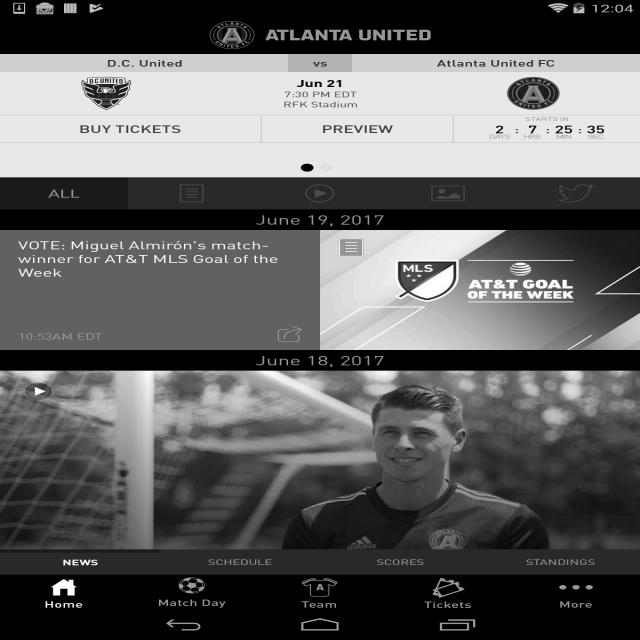Button: (17, 204, 623, 231), (595, 130, 640, 159), (574, 139, 587, 149)
EditText: (182, 611, 596, 639), (182, 527, 596, 554), (182, 555, 596, 582), (182, 583, 596, 610), (536, 134, 596, 156)
ImageView: (0, 371, 640, 637), (320, 230, 640, 350), (210, 21, 431, 49), (158, 577, 226, 608), (549, 77, 603, 110), (80, 77, 133, 110), (507, 77, 560, 110), (424, 578, 471, 608), (301, 578, 338, 608), (45, 579, 82, 608), (559, 585, 593, 608), (558, 185, 593, 202), (23, 382, 54, 401), (431, 186, 465, 202), (338, 238, 364, 257), (305, 185, 334, 202), (277, 326, 302, 342), (180, 185, 203, 202)
TextView: (18, 238, 302, 279), (3, 211, 637, 228), (3, 352, 637, 369), (0, 54, 288, 72), (352, 54, 640, 72), (298, 122, 640, 135), (0, 122, 298, 136), (0, 122, 261, 136), (18, 331, 302, 342), (262, 122, 453, 136), (213, 77, 427, 89), (213, 90, 427, 100), (213, 100, 427, 110), (213, 77, 470, 85), (4, 186, 124, 201), (0, 557, 160, 567), (160, 557, 320, 567), (320, 557, 480, 567), (480, 557, 640, 567), (348, 85, 408, 110), (275, 85, 334, 110), (288, 54, 352, 72), (334, 85, 348, 110), (526, 115, 568, 123), (510, 123, 524, 142), (540, 123, 554, 142), (572, 123, 586, 142), (488, 123, 510, 133), (554, 123, 572, 133), (586, 123, 604, 133), (488, 134, 510, 142), (524, 123, 541, 133), (554, 134, 572, 142), (586, 134, 604, 142), (524, 134, 541, 142)
